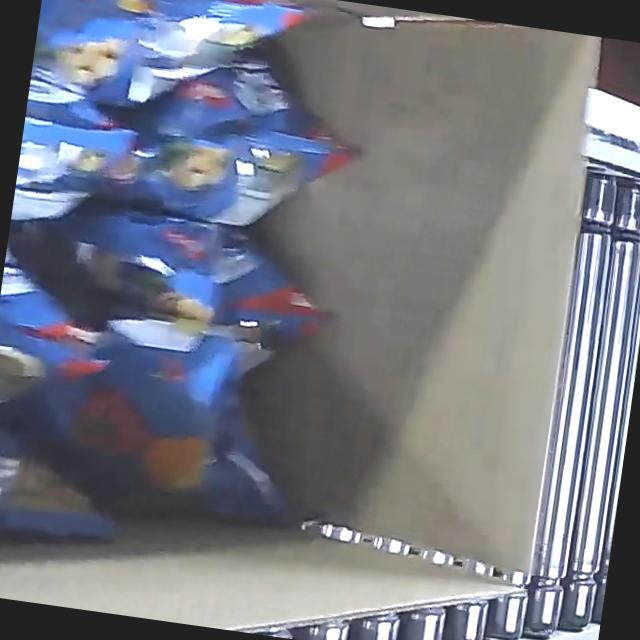paprika: (0, 0, 387, 571)
